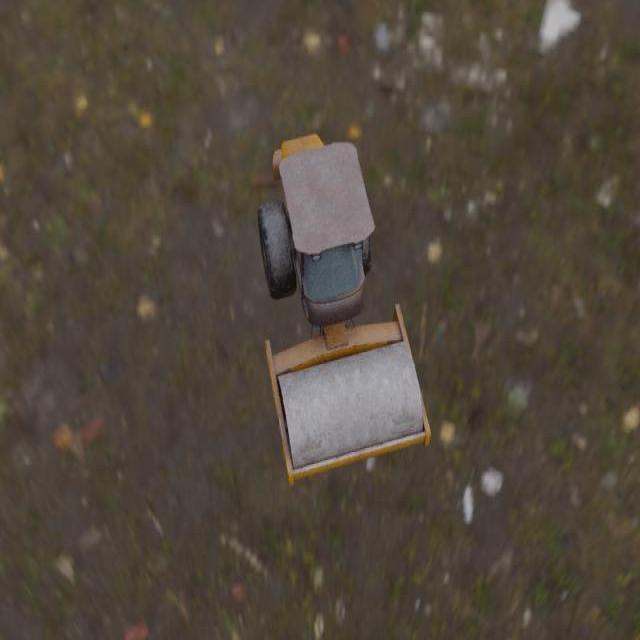Roller: (257, 133, 431, 487)
